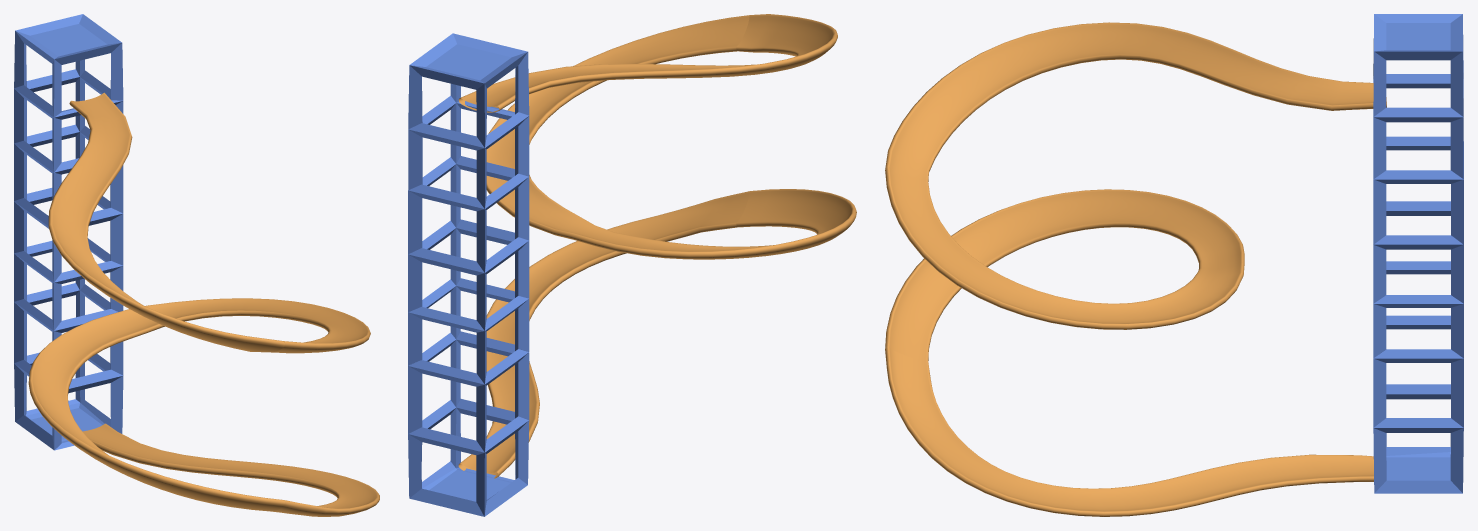
Rendered from road_2.fbx.
The picture shows the model from 3 angles, left to right: view 1: azimuth 30°, elevation 25°; view 2: azimuth 150°, elevation 25°; view 3: azimuth 270°, elevation 25°; orthographic projection. The views are drawn at different scales.
Parts seen in each view (by area): view 1: road_2, elevator_2; view 2: elevator_2, road_2; view 3: road_2, elevator_2.
Boxes of the visible parts, x1=… form: road_2: x1=28, y1=92, x2=379, y2=516; elevator_2: x1=14, y1=14, x2=123, y2=450; elevator_2: x1=408, y1=33, x2=529, y2=516; road_2: x1=458, y1=14, x2=856, y2=478; road_2: x1=885, y1=22, x2=1386, y2=516; elevator_2: x1=1373, y1=14, x2=1463, y2=493.
Size of the model in its own units: 3686 by 4510 by 5351.
